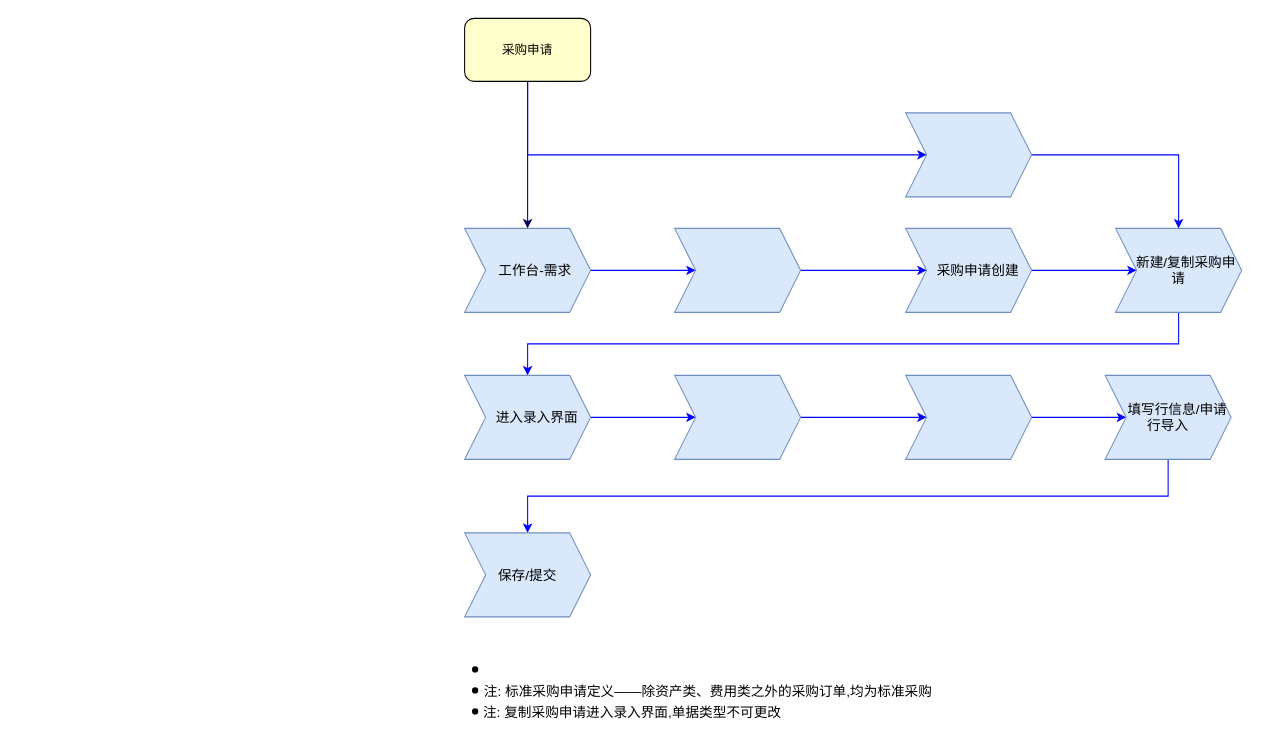
This 1261x740 diagram has some shape labels left out. Here are the shapes that lost their labels. From the top down, the centre of each, then its label:
pixel 968 154: 工作台顶部搜索 框,搜索"采购申请创建"
pixel 737 269: 采购申请管理
pixel 737 416: 选择相应单据类 型,填写头信息
pixel 968 416: 保存
pixel 475 669: 注: 采购申请共分三种,分别为标准采购、资产类采购、费用类采购
